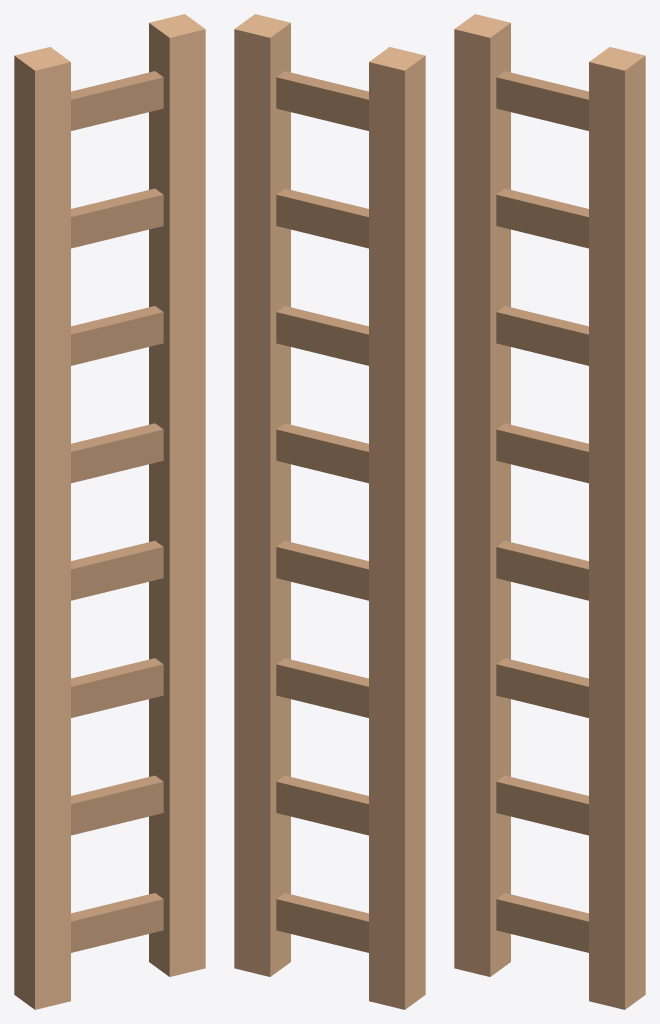
The model's file is ladderLong.glb.
The picture shows the model from 3 angles, left to right: view 1: azimuth 30°, elevation 25°; view 2: azimuth 150°, elevation 25°; view 3: azimuth 330°, elevation 25°; orthographic projection.
Visible parts, largest first — view 1: ladderLong; view 2: ladderLong; view 3: ladderLong.
Part boxes in pixels (x1,y1,x2,y2): ladderLong: [14, 14, 205, 1009]; ladderLong: [234, 14, 425, 1009]; ladderLong: [454, 14, 645, 1009].
Bounding box in the file's own units: 0.38 × 2 × 0.08.
